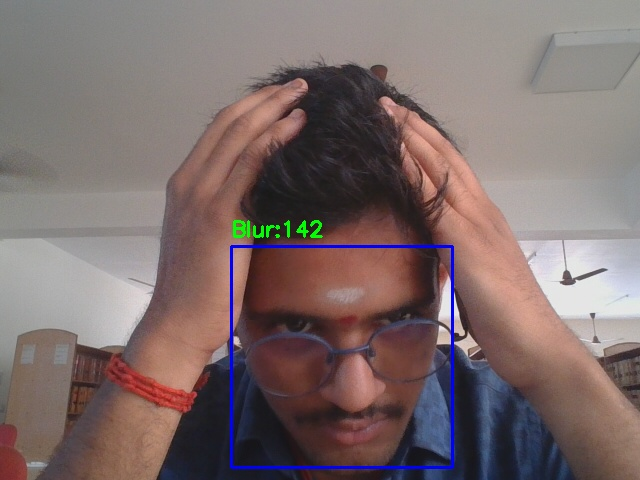real: (231, 246, 452, 467)
